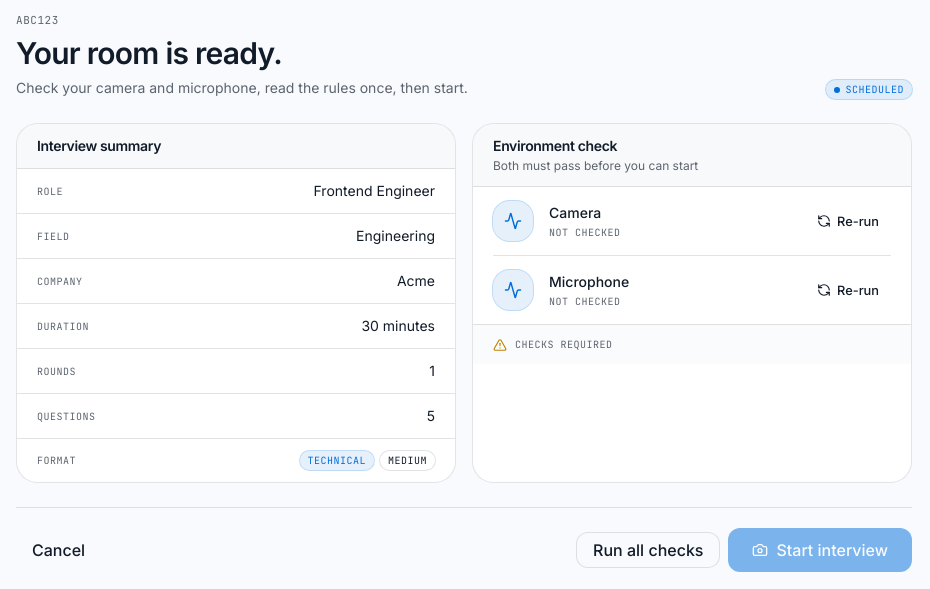
Test: Interview Lobby › surfaces a denied permission instead of pretending the check passed
Click the button "Run all checks" at (648, 550), box [576,532,720,568]
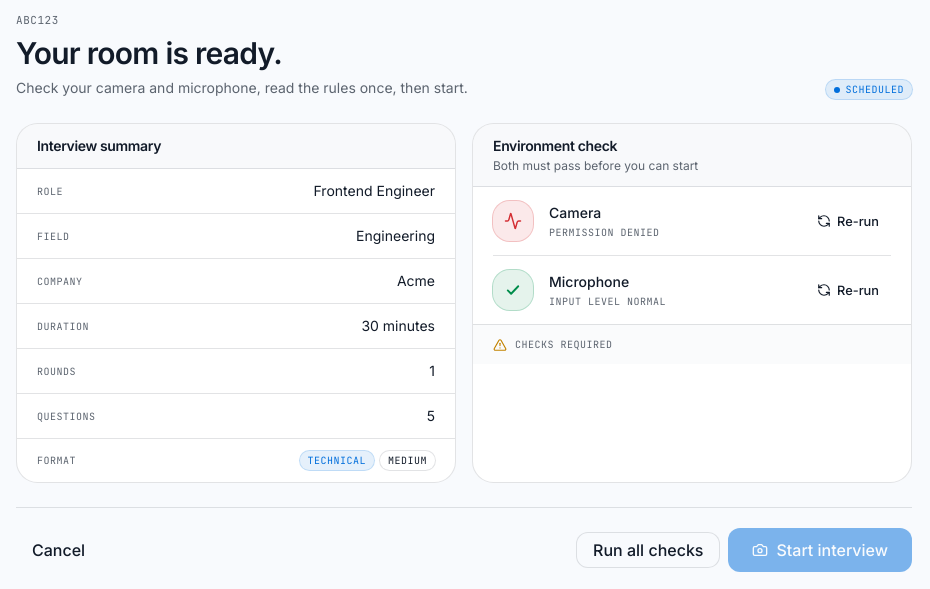
Expected: the button "Start interview" is disabled, [728,528,912,572]
Expected: the text "permission denied" is shown, [549,226,660,239]
